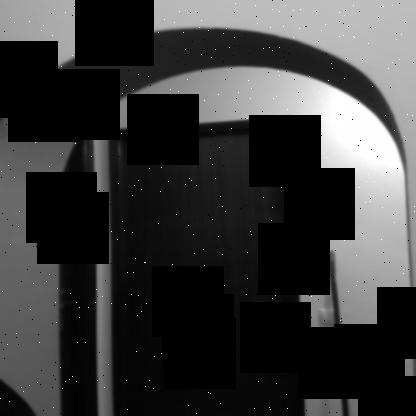Porte: (105, 116, 308, 415)
